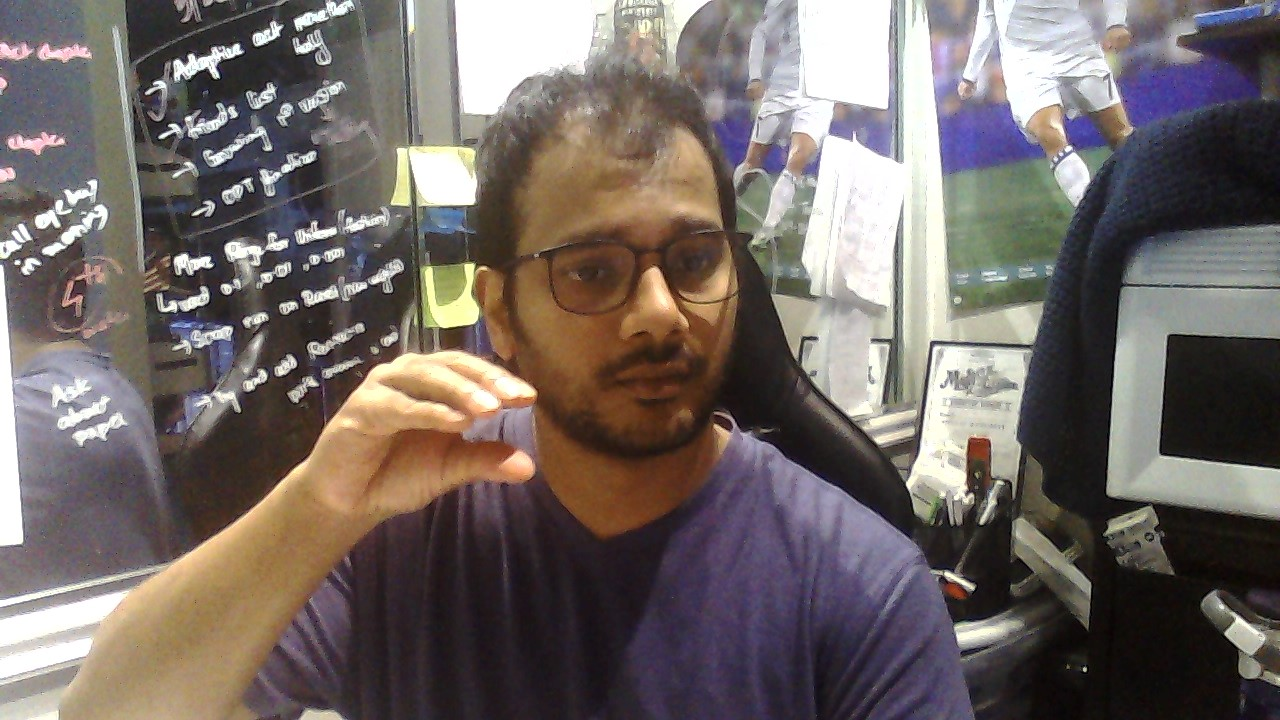No: (312, 352, 537, 517)
